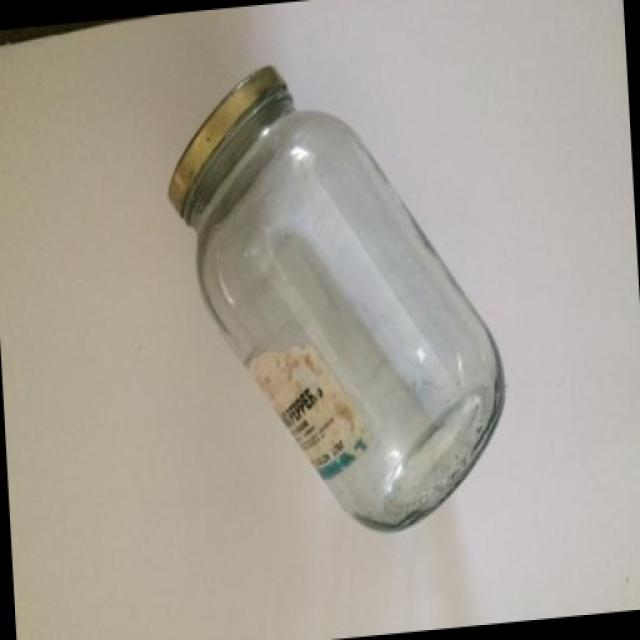vidrio: (155, 34, 520, 559)
